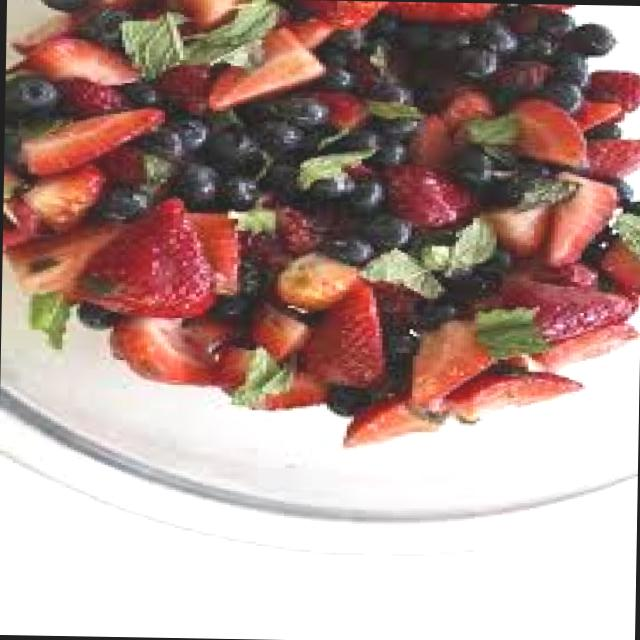organic: (26, 0, 623, 427)
